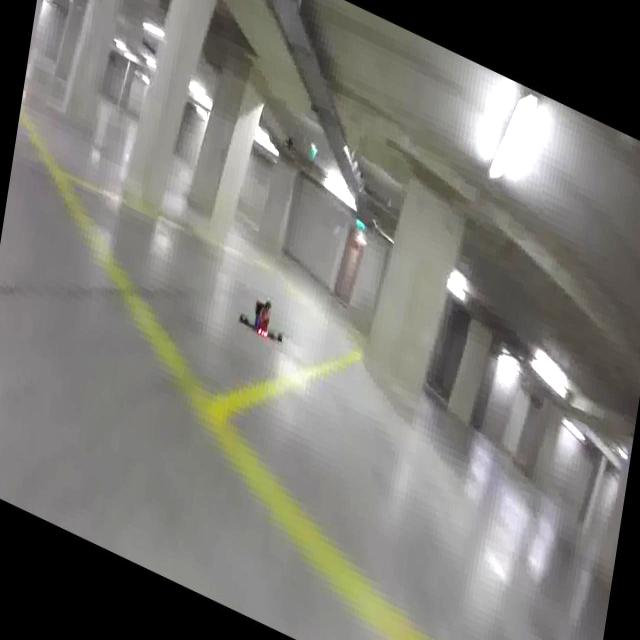drone: (230, 278, 294, 359)
